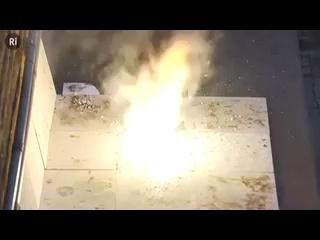Fire: (115, 54, 188, 184)
